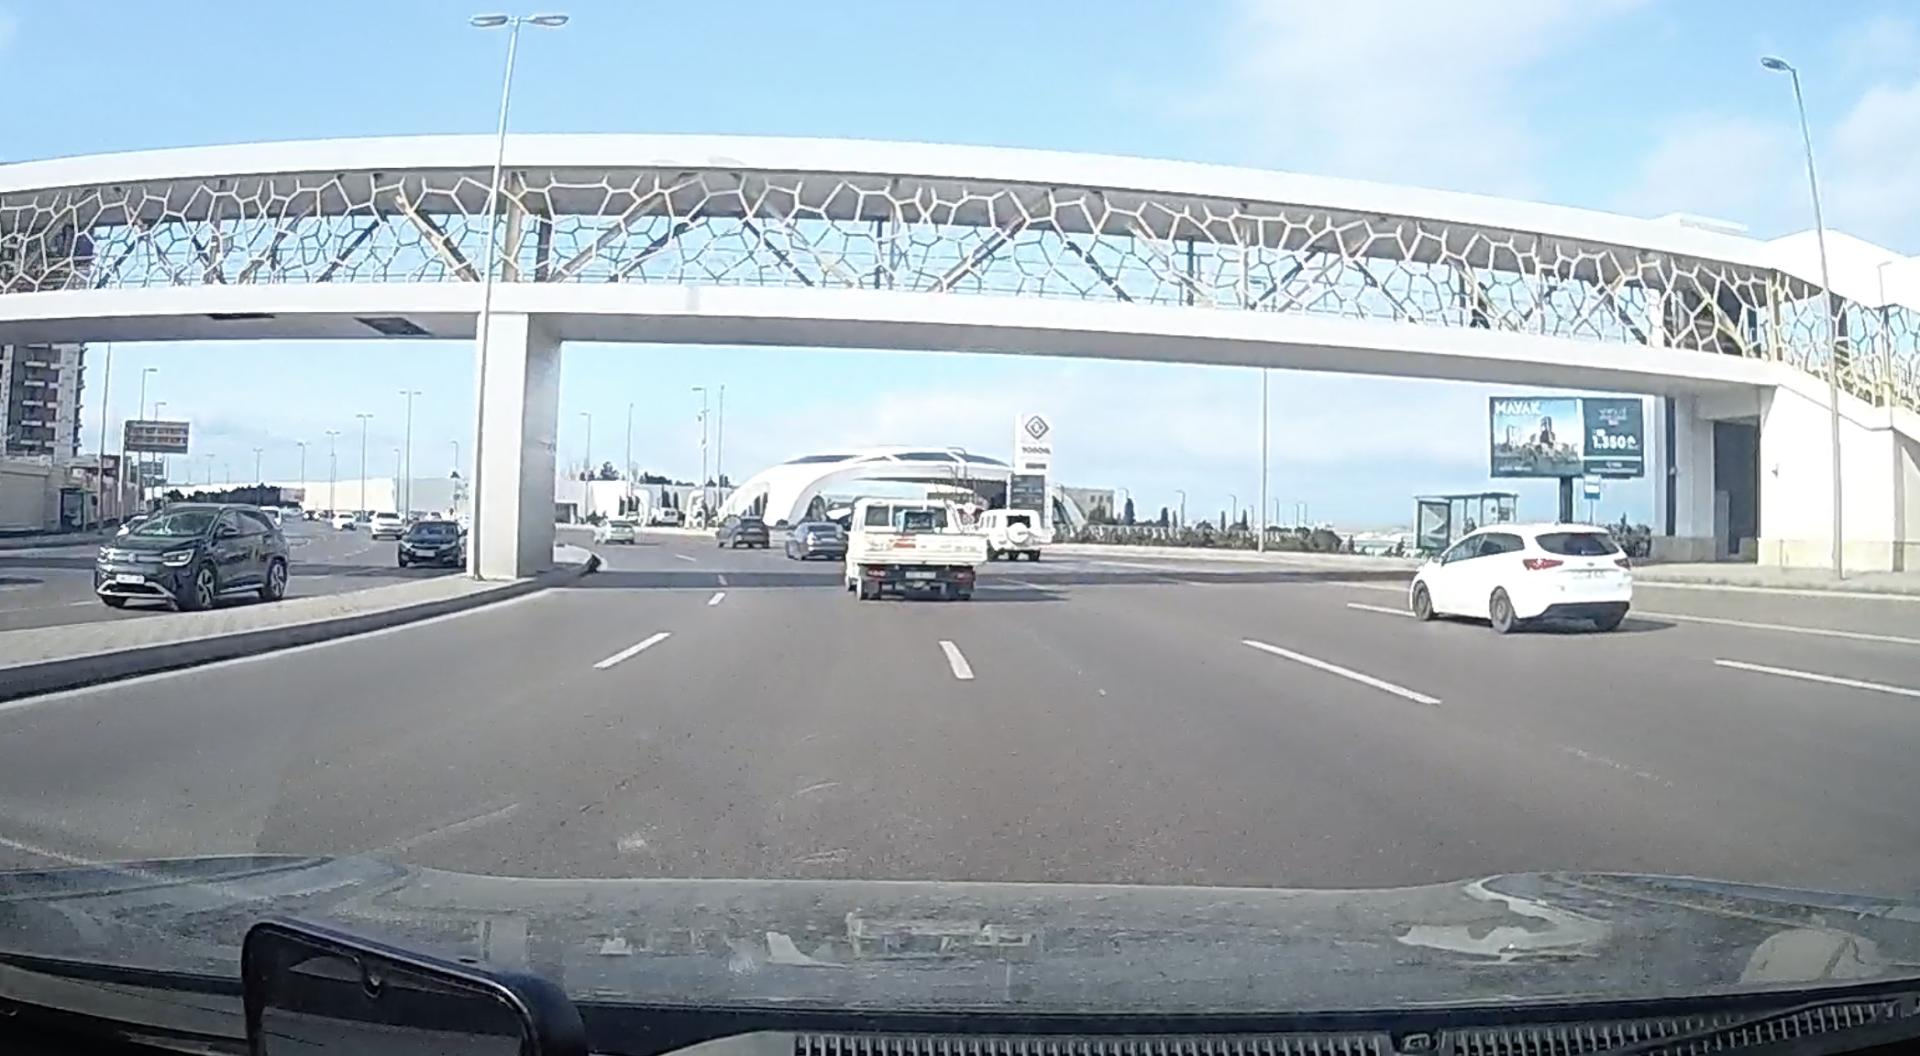banner: (1485, 394, 1648, 481)
